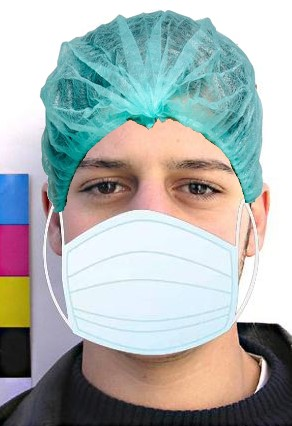with_mask_and_cap: (41, 11, 268, 360)
